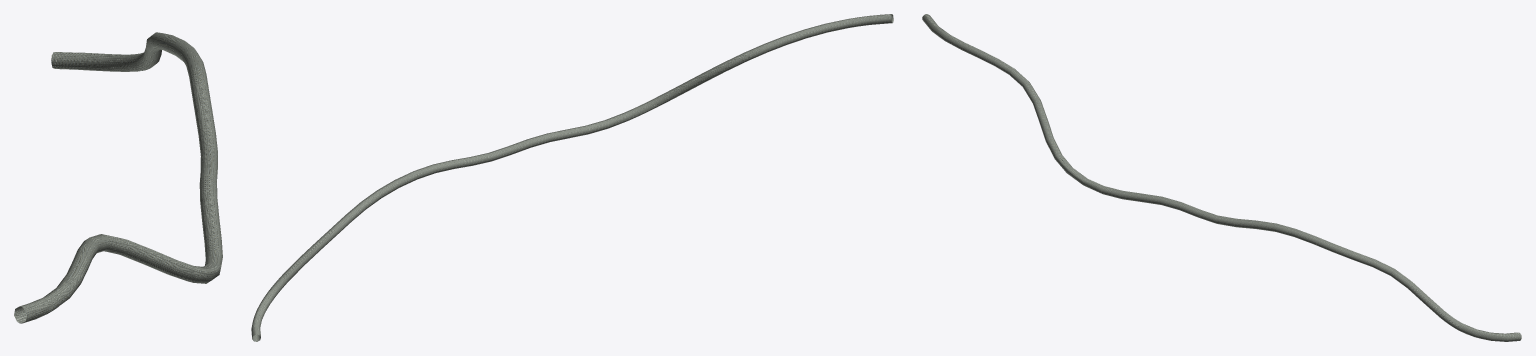
File: microtubule51.fbx
3 renders of one model, left to right at view 1: azimuth 30°, elevation 25°; view 2: azimuth 150°, elevation 25°; view 3: azimuth 270°, elevation 25°, orthographic. The views are drawn at different scales.
Parts seen in each view (by area): view 1: microtubule51; view 2: microtubule51; view 3: microtubule51.
Boxes of the visible parts, x1,y1,x2,y2 form: microtubule51: (14, 32, 222, 323); microtubule51: (251, 14, 893, 341); microtubule51: (922, 14, 1521, 341).
Size of the model in its own units: 6556 by 3268 by 10208.
1 material, 1 textured.
